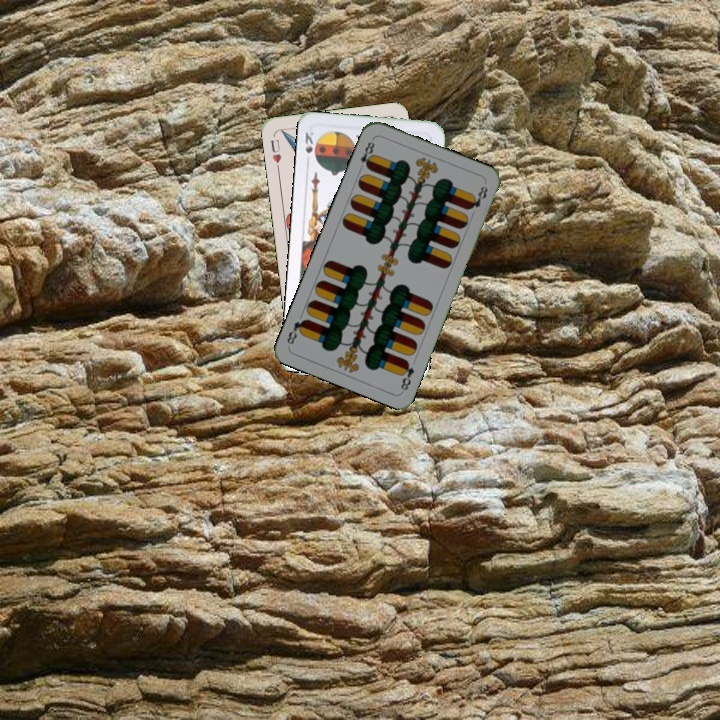E8: (355, 135, 377, 174), (396, 356, 417, 393)
HU: (266, 135, 284, 166)
SK: (301, 128, 316, 156)
